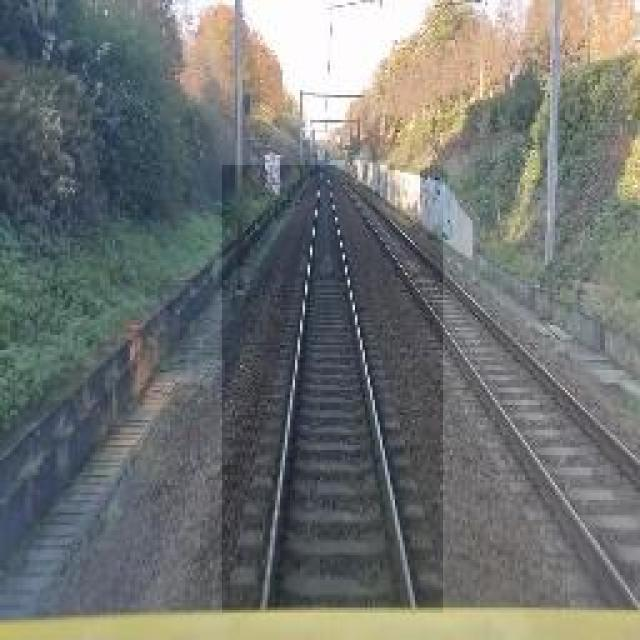rail: (223, 167, 444, 614)
